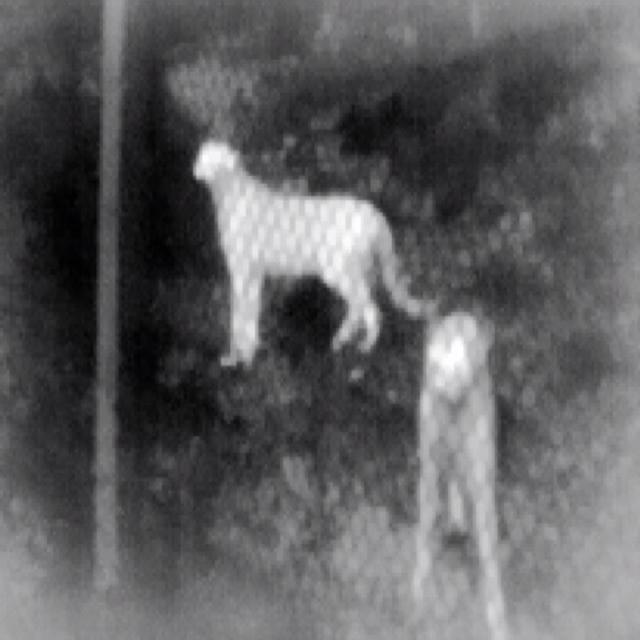cheetah: (194, 141, 432, 368), (415, 314, 505, 638)
